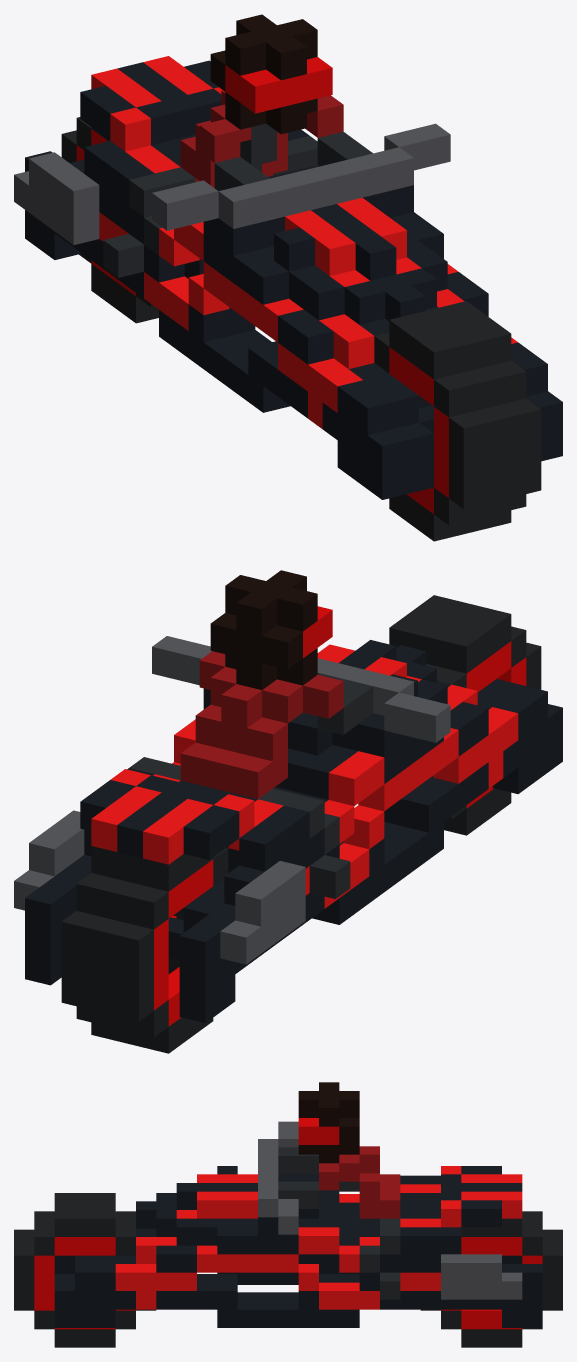
Rendered from Rider.obj.
3 views of the same model, one above another, from view 1: azimuth 30°, elevation 25°; view 2: azimuth 150°, elevation 25°; view 3: azimuth 270°, elevation 25° (orthographic). The views are drawn at different scales.
Size of the model in its own units: 1.1 by 1.3 by 2.7.
1 material, 1 textured.
